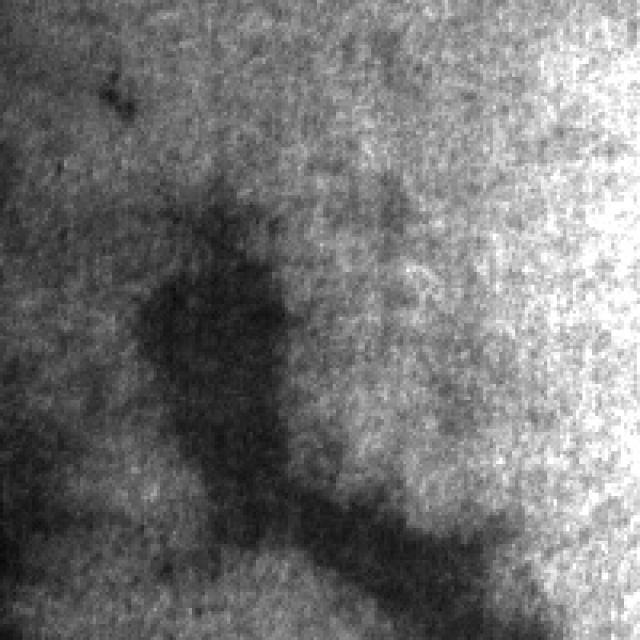patches: (182, 394, 516, 636), (131, 186, 317, 588)
